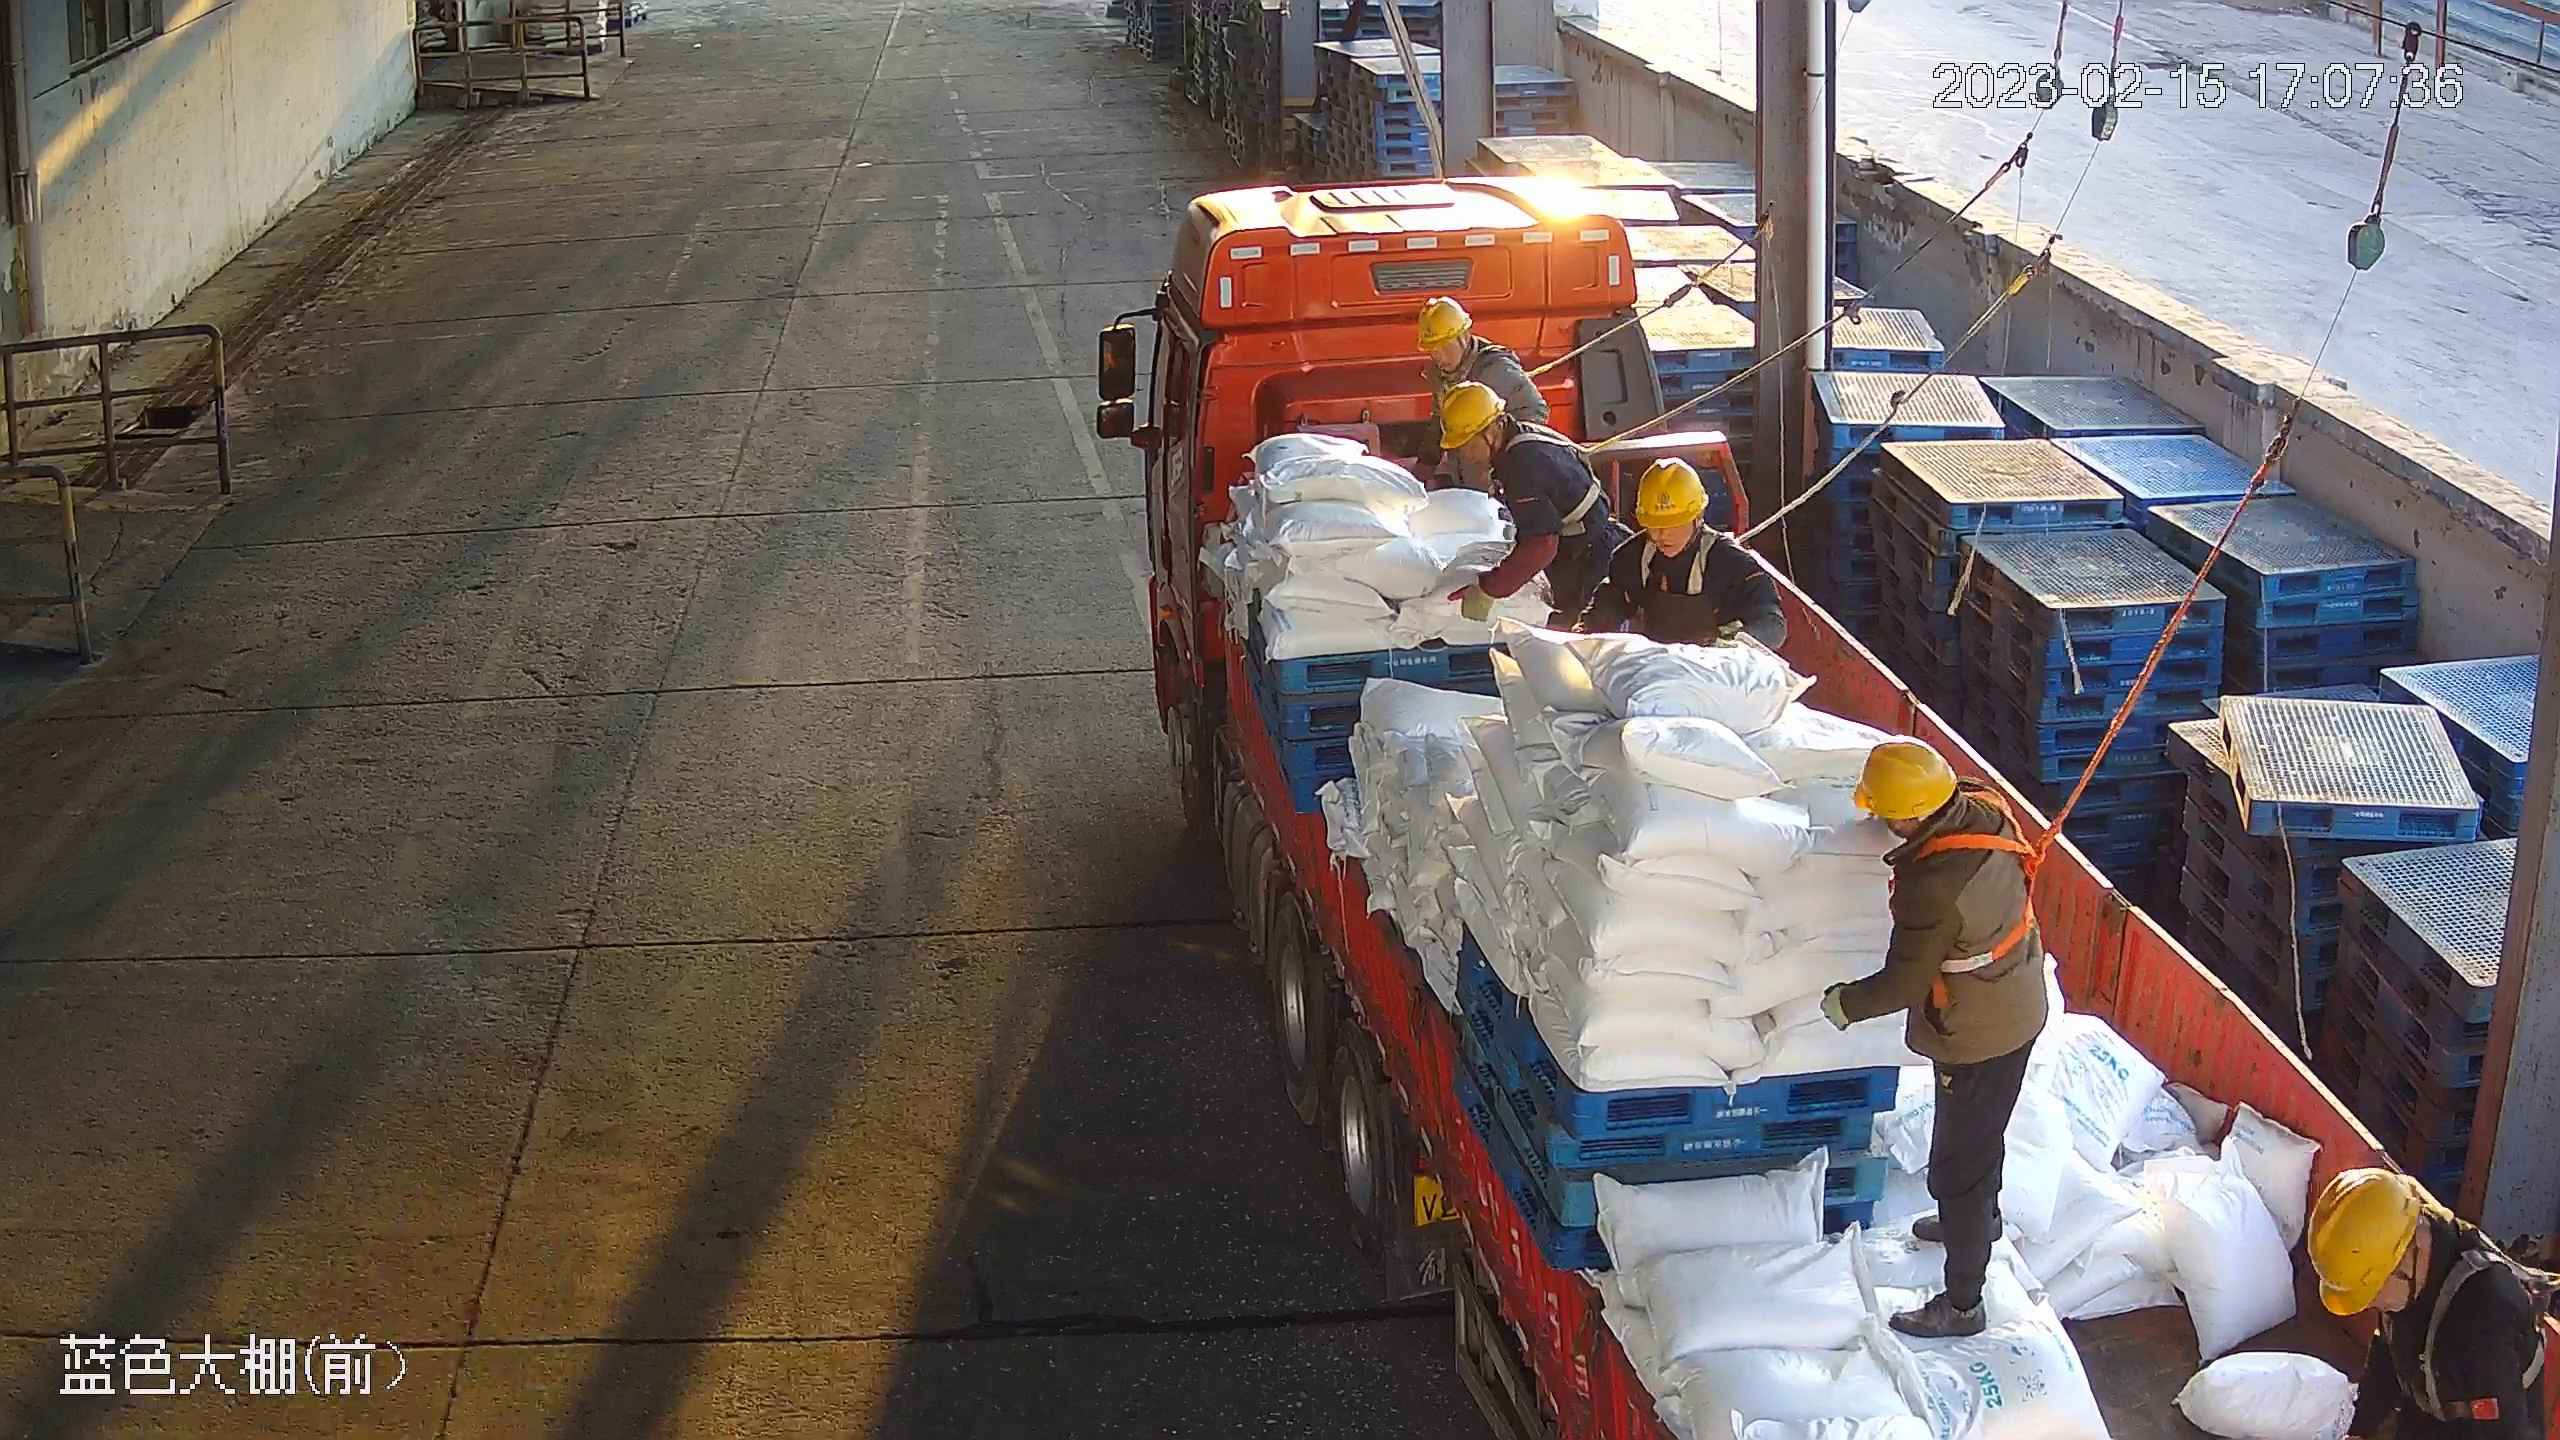belt: (2378, 1259, 2552, 1440), (1928, 790, 2059, 978), (1510, 413, 1615, 530), (1633, 535, 1715, 599)
head: (2307, 1164, 2546, 1420), (1821, 735, 2022, 908), (1598, 451, 1752, 604), (1445, 389, 1590, 528), (1415, 297, 1536, 411)
helmet: (2310, 1166, 2419, 1316), (1853, 735, 1959, 818), (1636, 459, 1710, 530), (1440, 380, 1503, 449), (1417, 295, 1472, 344)
people: (1819, 735, 2050, 1345), (1440, 387, 1629, 633)
truck: (1091, 183, 2560, 1440)
